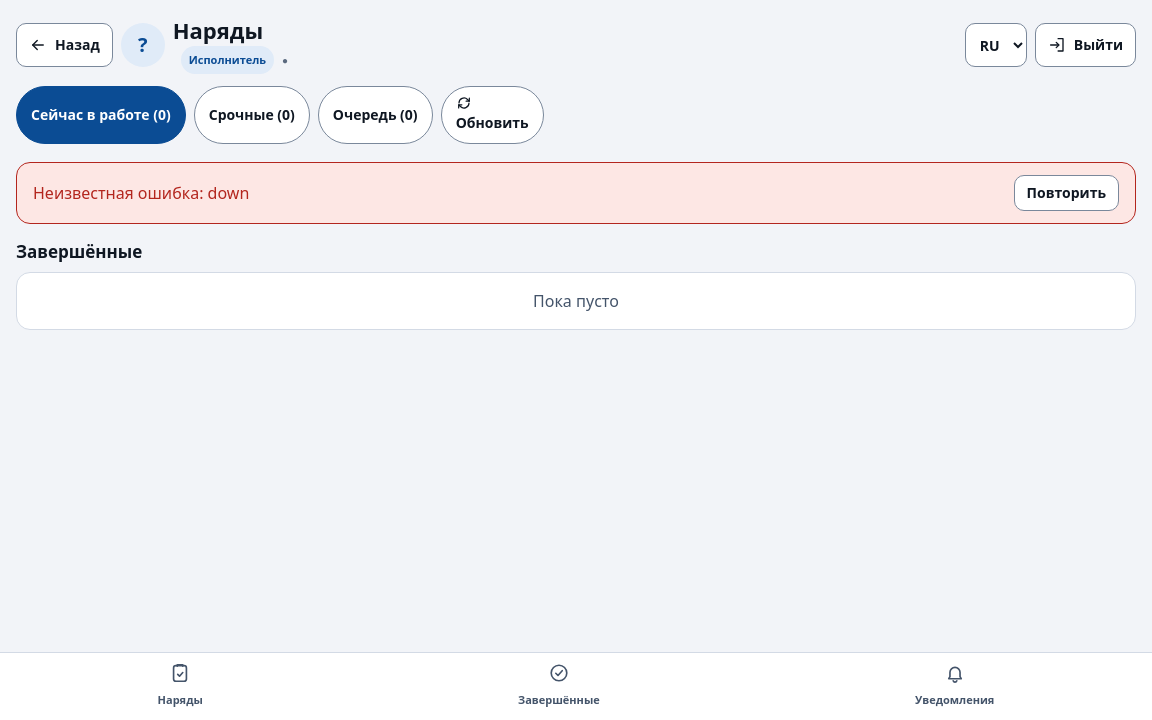
it: WorkerHome › shows error with retry when active fails
The width and height of the screenshot is (1152, 720).
Expected: the message "Неизвестная ошибка: down Повторить" is shown, [16,162,1136,224]
Step 1. Click the button "Повторить" → (1066, 193), box [1014,175,1119,211]
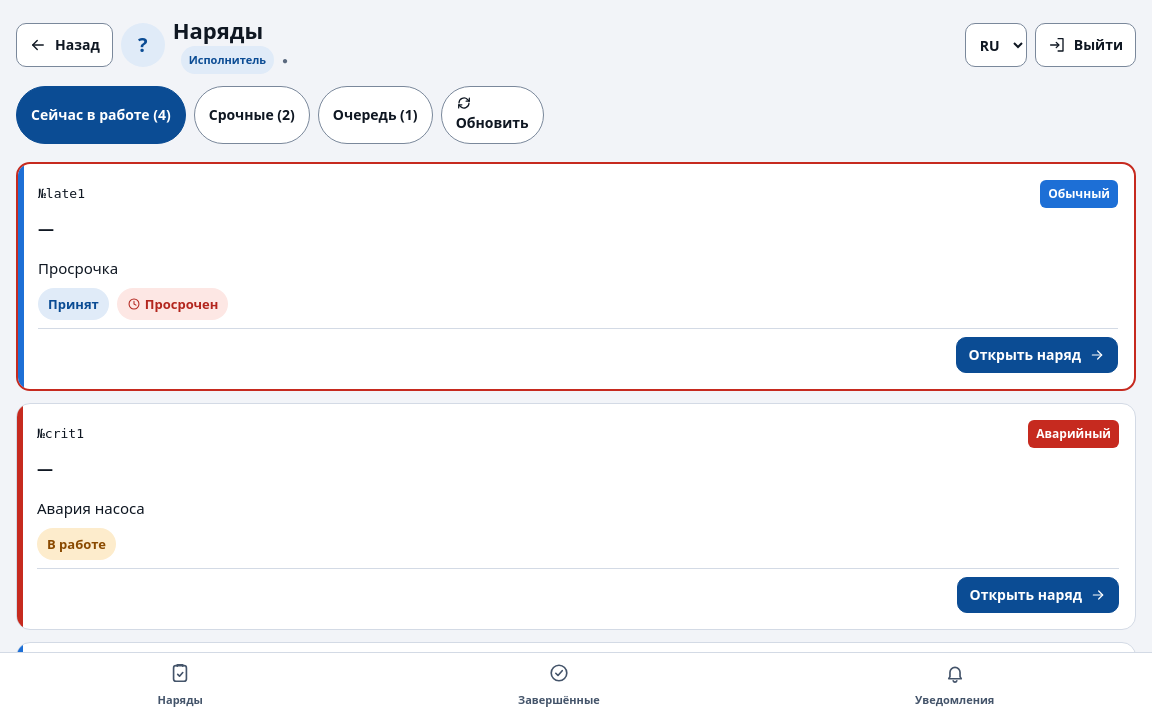
Expected: the text "Авария насоса" is shown, [37,498,145,518]
